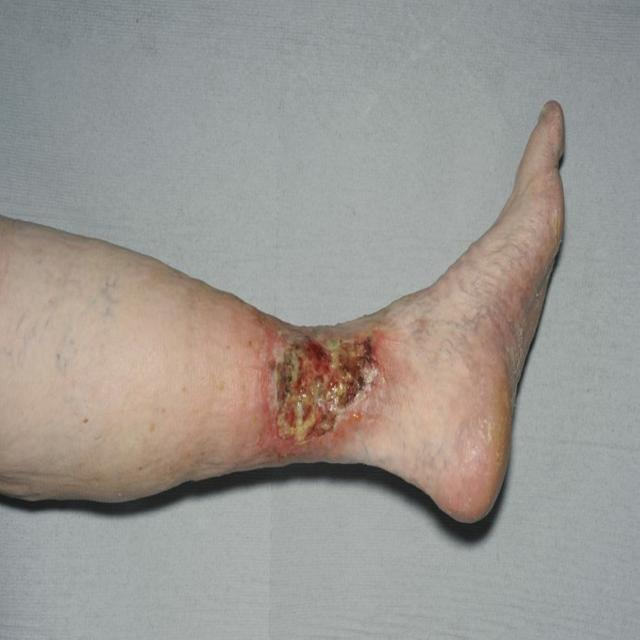wound: (273, 332, 380, 447)
